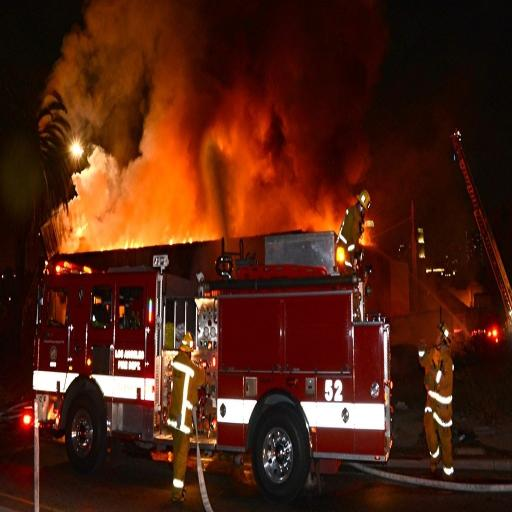fire: (46, 261, 92, 274), (360, 218, 373, 246), (71, 141, 83, 159), (360, 228, 371, 246), (74, 223, 87, 238), (122, 240, 143, 249), (22, 412, 33, 426), (168, 239, 174, 244)
smoke: (49, 0, 386, 252)
